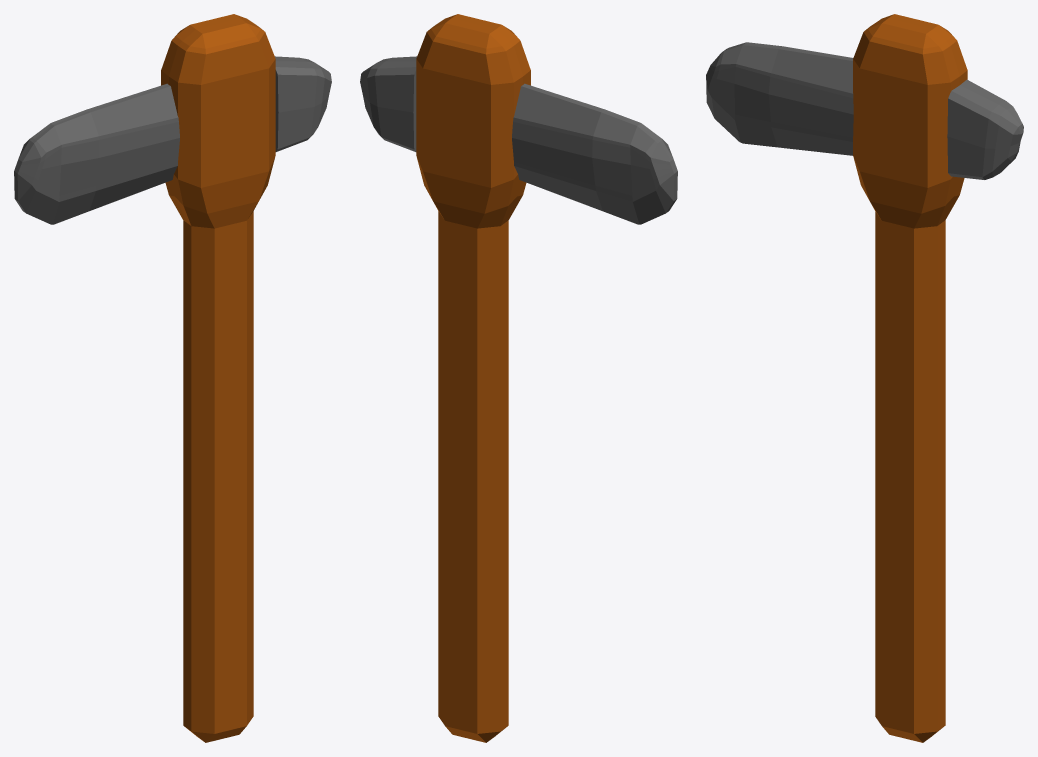
Rendered from axe-obj-ver_1.0.fbx.
The picture shows the model from 3 angles, left to right: view 1: azimuth 30°, elevation 25°; view 2: azimuth 150°, elevation 25°; view 3: azimuth 330°, elevation 25°; orthographic projection.
Visible parts, largest first — view 1: axe-handle, axe-blade; view 2: axe-handle, axe-blade; view 3: axe-handle, axe-blade.
Part boxes in pixels (x1=…): axe-handle: x1=161, y1=14, x2=275, y2=742; axe-blade: x1=14, y1=56, x2=331, y2=224; axe-handle: x1=416, y1=14, x2=530, y2=742; axe-blade: x1=360, y1=56, x2=677, y2=224; axe-handle: x1=853, y1=14, x2=967, y2=742; axe-blade: x1=706, y1=42, x2=1023, y2=179.
Bounding box in the file's own units: 221 × 477 × 40.34.
